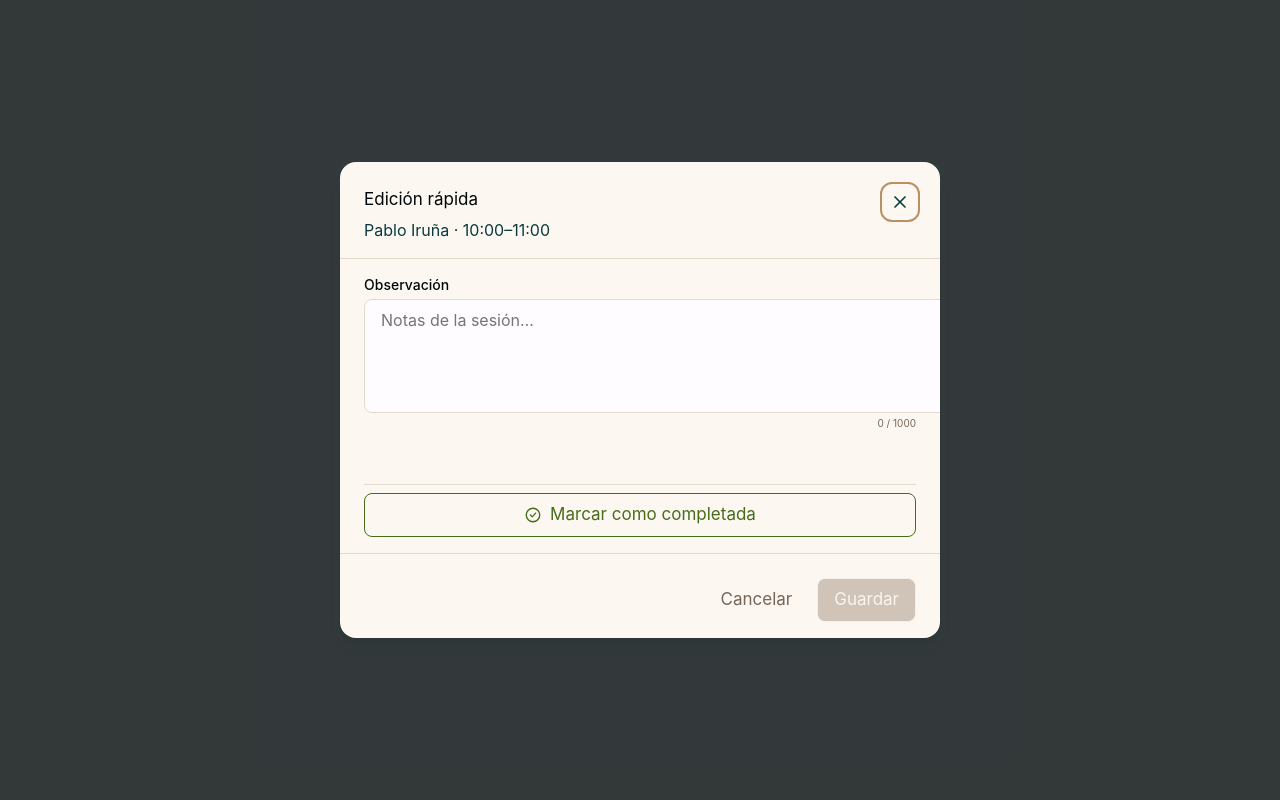
Test case: CitaQuickEditModal — completion affordance by estado › arming the toggle sets aria-pressed=true and flips the Save label to "Guardar y completar"
Expected: the button "Guardar" is shown, [817,578,916,622]
Step 1. Click the button "Marcar como completada" → (640, 514), box [364,492,916,536]
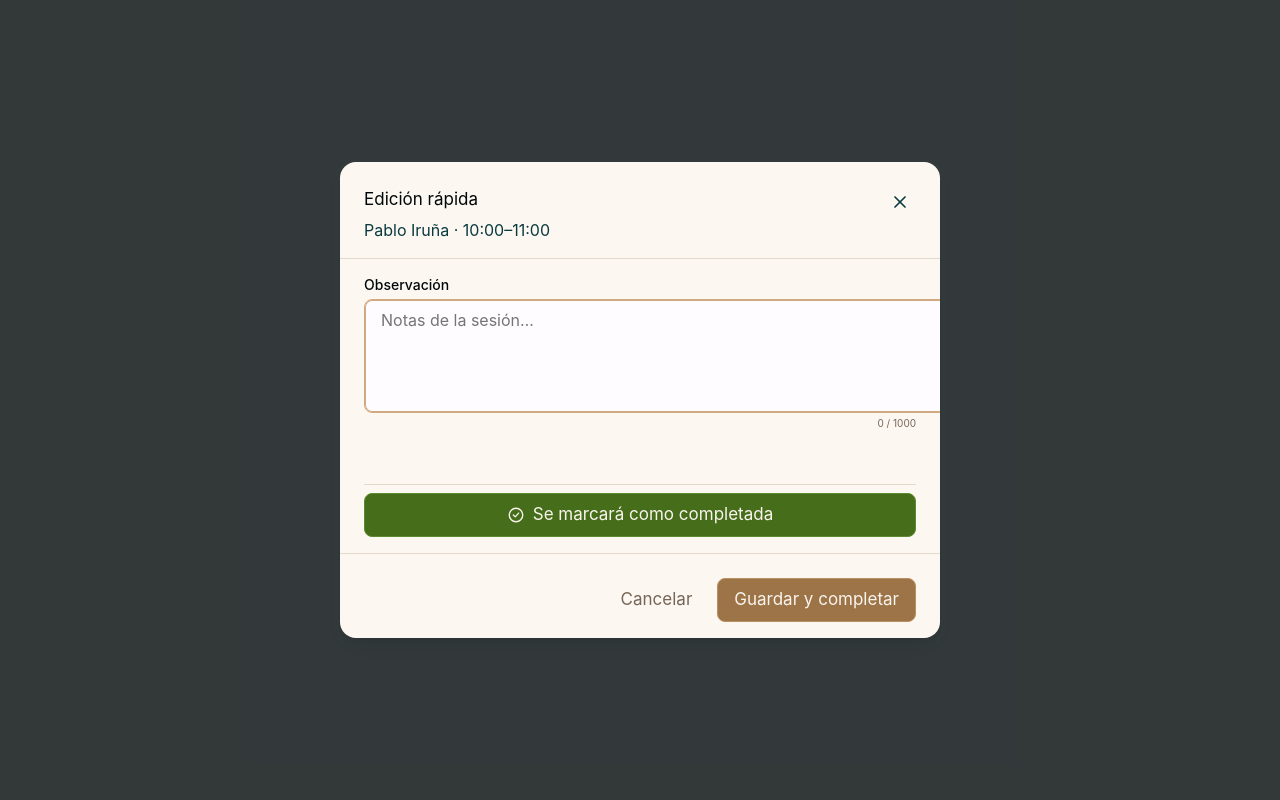
Expected: the button "Guardar y completar" is shown, [717,578,916,622]
